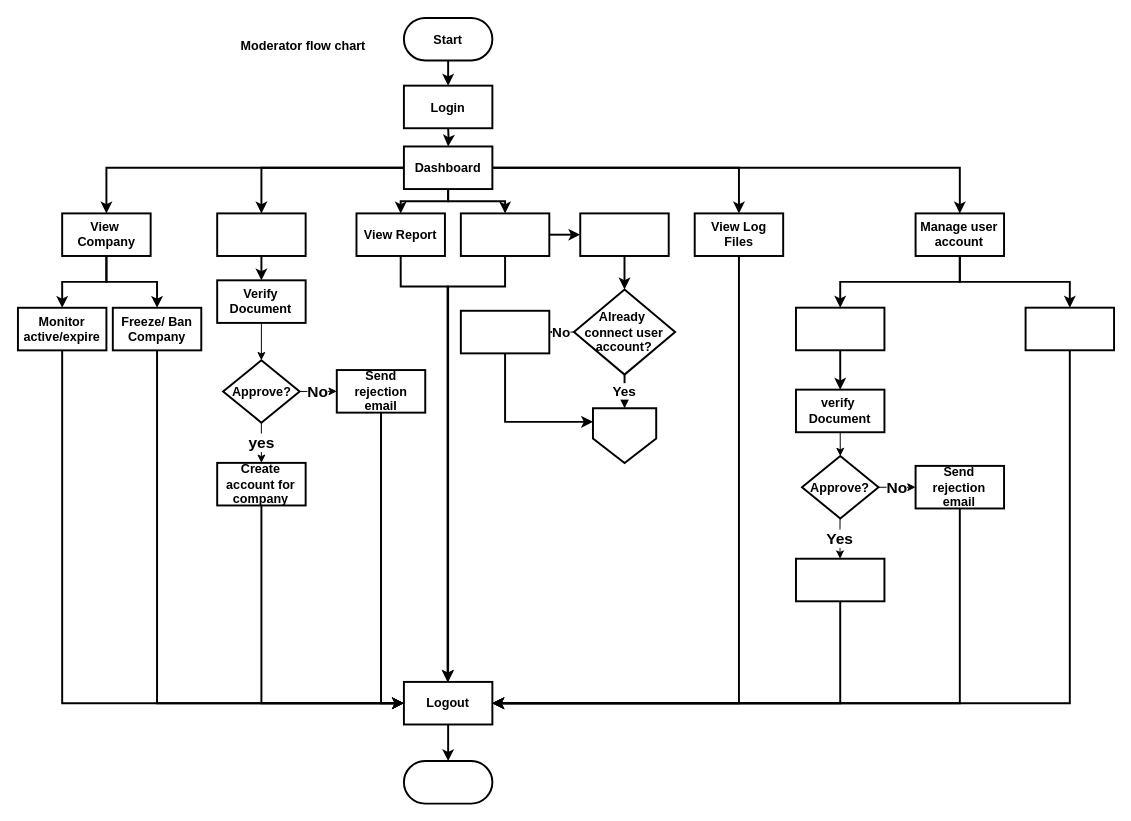
This 1131x821 diagram has some shape labels left out. Here are the shapes that lost their labels. From the top down, the centre of each, then its label:
At point 261,234: "View company Requests".
At point 504,234: "Edit Profile".
At point 624,234: "Change to user account".
At point 504,331: "Connect user account".
At point 840,328: "View user Request".
At point 1069,328: "Active/ Disable account".
At point 624,435: "User".
At point 840,579: "Accept request".
At point 447,782: "End".
